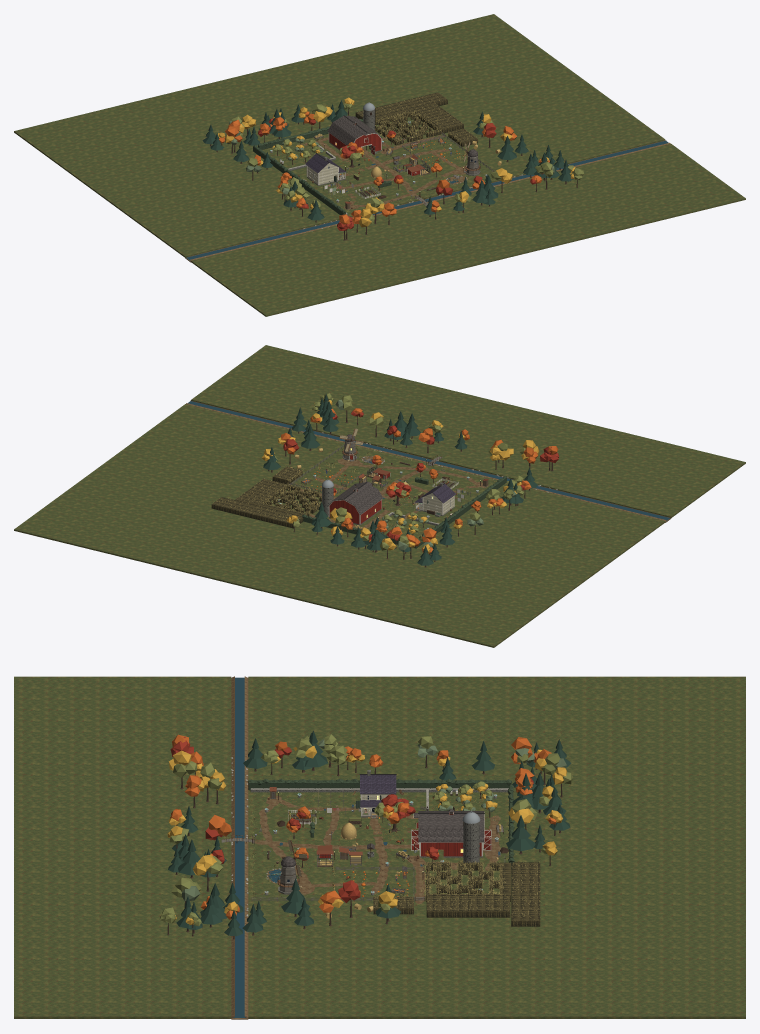
Rendered from farm.glb.
3 views of the same model, one above another, from view 1: azimuth 30°, elevation 25°; view 2: azimuth 150°, elevation 25°; view 3: azimuth 270°, elevation 25° (orthographic). The views are drawn at different scales.
Visible parts, largest first — view 1: S_0_2, S_0_m6, S_0_m3, S_2_2, S_1_1, S_0_1, S_m1_2, S_m3_0, S_0_0, S_3_m4, S_m3_m4, S_1_m4 (+4 smaller); view 2: S_0_2, S_0_m6, S_0_m3, S_2_2, S_0_1, S_1_1, S_m3_0, S_m2_0, S_m1_2, S_1_m4, S_3_m4, S_m2_3 (+2 smaller); view 3: S_0_2, S_0_m6, S_0_m3, S_2_2, S_0_1, S_m3_0, S_1_1, S_0_0, S_3_m4, S_m1_m3, S_m4_m2, S_m2_0 (+17 smaller).
Boxes of the visible parts, box(x1,y1,x2,y2) form: S_0_2: box(14, 14, 665, 257); S_0_m6: box(191, 144, 745, 316); S_0_m3: box(185, 140, 670, 262); S_2_2: box(355, 92, 463, 133); S_1_1: box(375, 108, 441, 145); S_0_1: box(327, 102, 395, 153); S_m1_2: box(258, 104, 363, 149); S_m3_0: box(253, 145, 347, 215); S_0_0: box(343, 135, 449, 176); S_3_m4: box(534, 152, 573, 189); S_m3_m4: box(351, 198, 384, 234); S_1_m4: box(472, 174, 498, 206); S_0_2: box(14, 404, 665, 647); S_0_m6: box(191, 345, 745, 517); S_0_m3: box(186, 400, 671, 522); S_2_2: box(211, 478, 303, 528); S_0_1: box(322, 479, 382, 524); S_1_1: box(257, 483, 321, 516); S_m3_0: box(414, 476, 506, 548); S_m2_0: box(391, 482, 455, 519); S_m1_2: box(302, 507, 398, 544); S_1_m4: box(384, 411, 421, 444); S_3_m4: box(316, 393, 352, 425); S_m2_3: box(351, 520, 381, 552); S_0_2: box(248, 676, 745, 1018); S_0_m6: box(14, 676, 231, 1018); S_0_m3: box(231, 676, 248, 1019); S_2_2: box(426, 860, 540, 926); S_0_1: box(413, 809, 484, 864); S_m3_0: box(247, 778, 511, 810); S_1_1: box(424, 861, 510, 901); S_0_0: box(352, 818, 457, 903); S_3_m4: box(171, 877, 227, 933); S_m1_m3: box(221, 801, 411, 894); S_m4_m2: box(274, 730, 327, 772); S_m2_0: box(359, 770, 418, 818).
Bounding box in the file's own units: 220 × 15.91 × 200.
Materials: 93 (21 with a texture image).
